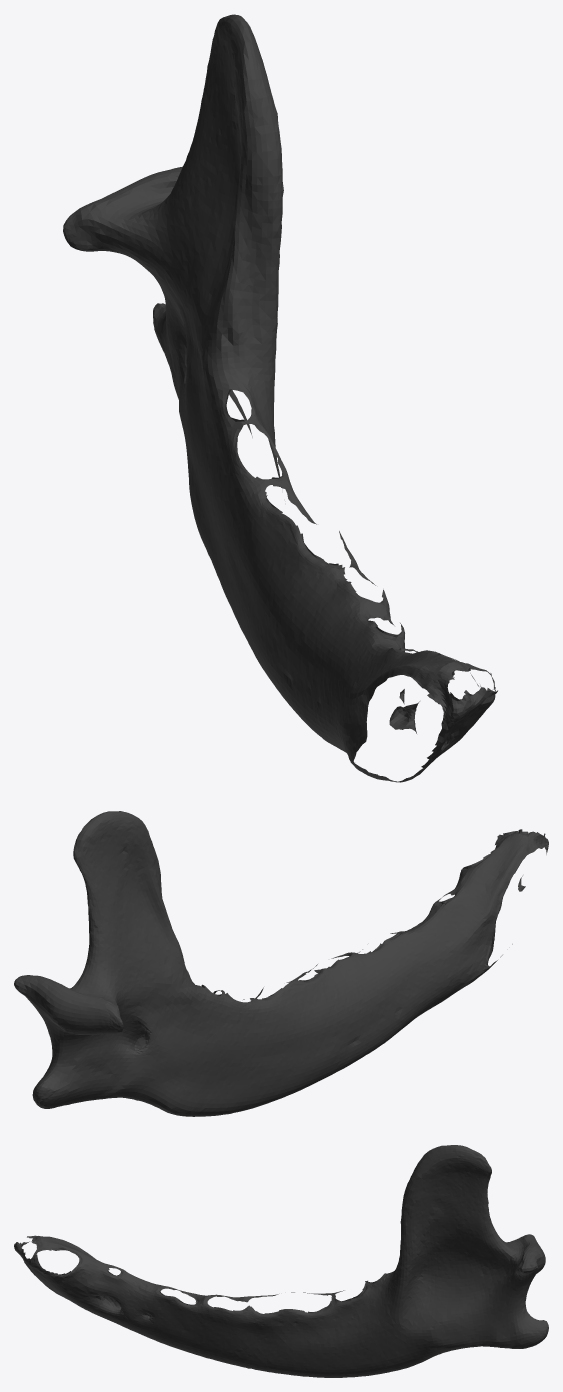
File: ZBrush_defualt_group.glb
3 views of the same model, one above another, from view 1: azimuth 30°, elevation 25°; view 2: azimuth 150°, elevation 25°; view 3: azimuth 270°, elevation 25° (orthographic). The views are drawn at different scales.
Parts seen in each view (by area): view 1: ZBrush_defualt_group; view 2: ZBrush_defualt_group; view 3: ZBrush_defualt_group.
Part boxes in pixels (box(x1,y1,x2,y2)): ZBrush_defualt_group: box(63, 14, 497, 782); ZBrush_defualt_group: box(14, 811, 548, 1116); ZBrush_defualt_group: box(14, 1145, 548, 1377).
Bounding box in the file's own units: 0.4586 × 0.7468 × 1.41.
1 material, 1 textured.
